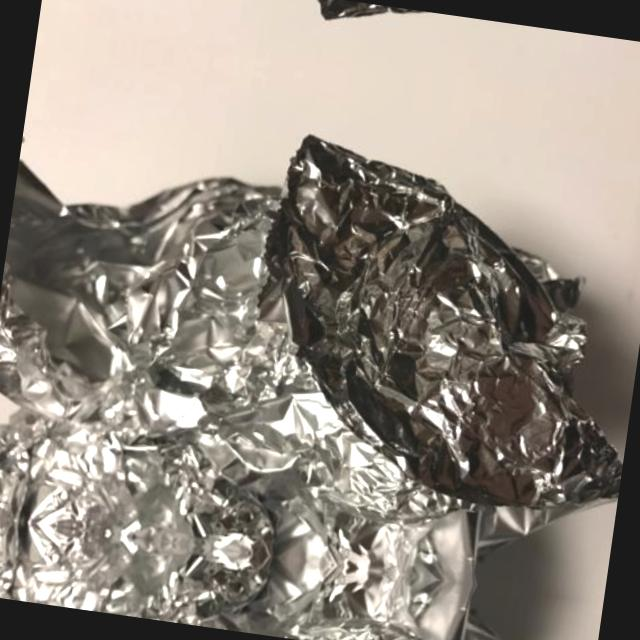Metal: (0, 89, 640, 602), (0, 513, 603, 640), (44, 0, 640, 73)
